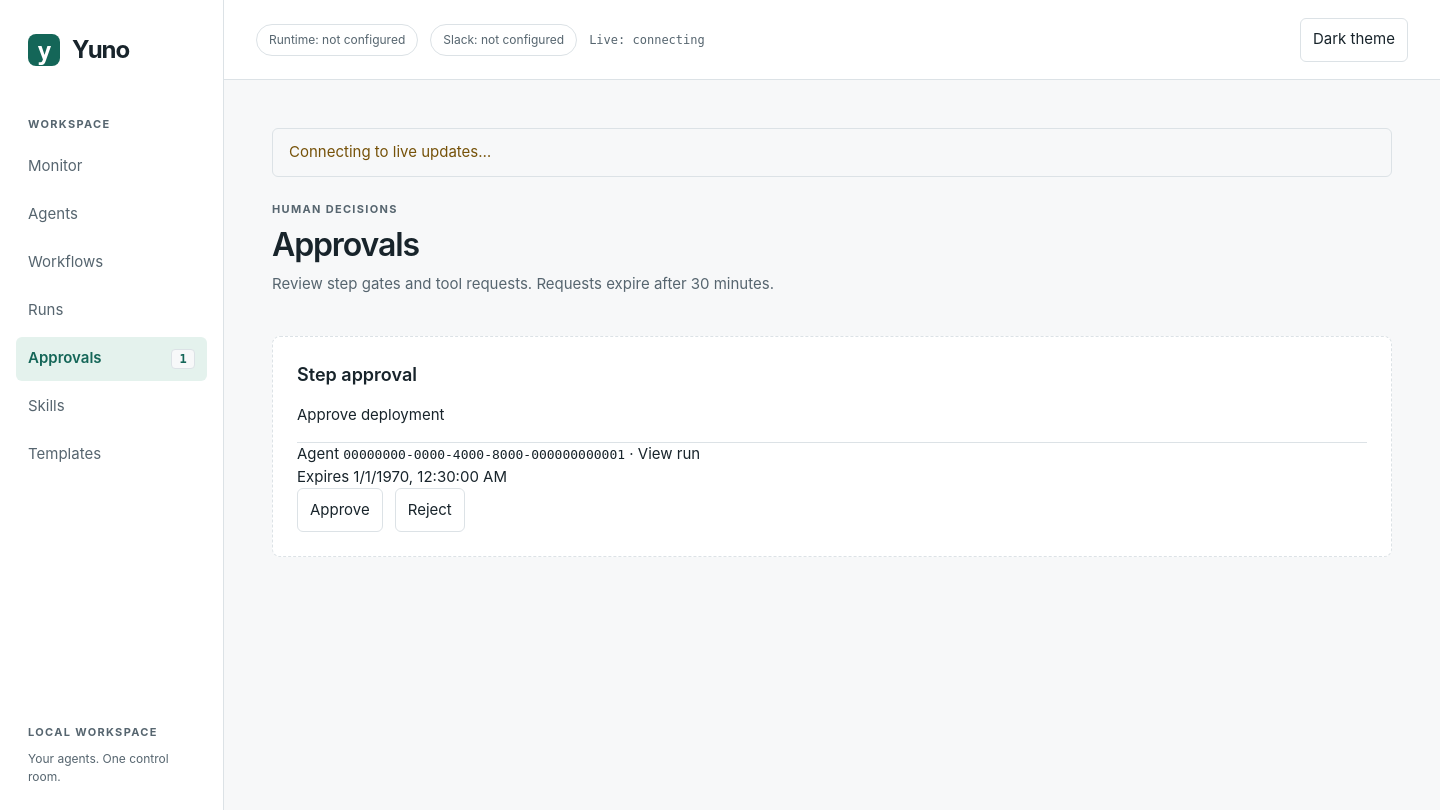
Test: T18 monitoring (R-06, R-16, R-20 through R-25) › R-06 failed approval remains actionable and exposes the transport failure
What coordinates should you click on to do the following:
click the button "Approve"
I would click on:
 (340, 510)
Its box is [297,488,383,532].
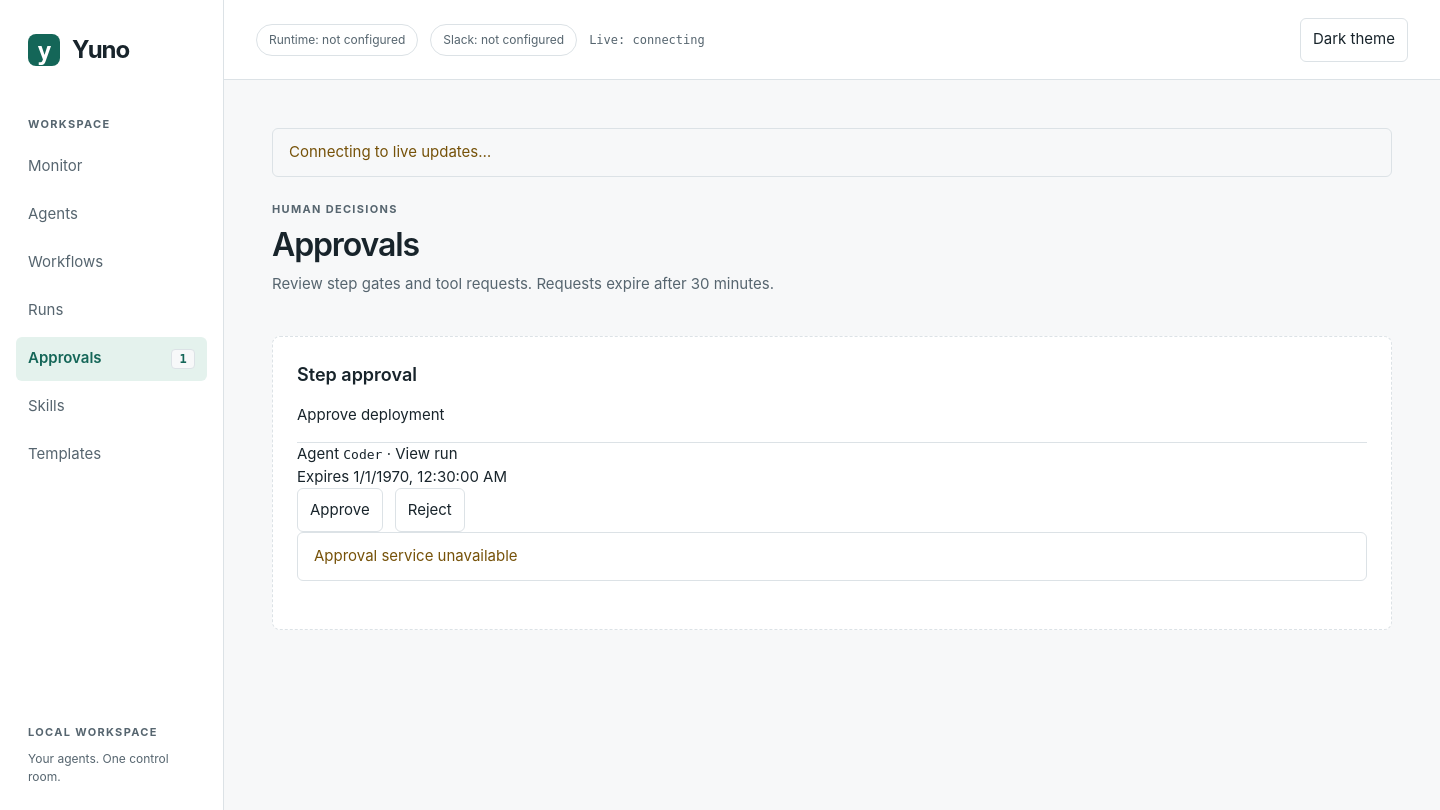
Expected: the text "Approval service unavailable" is shown, [314,545,518,568]
